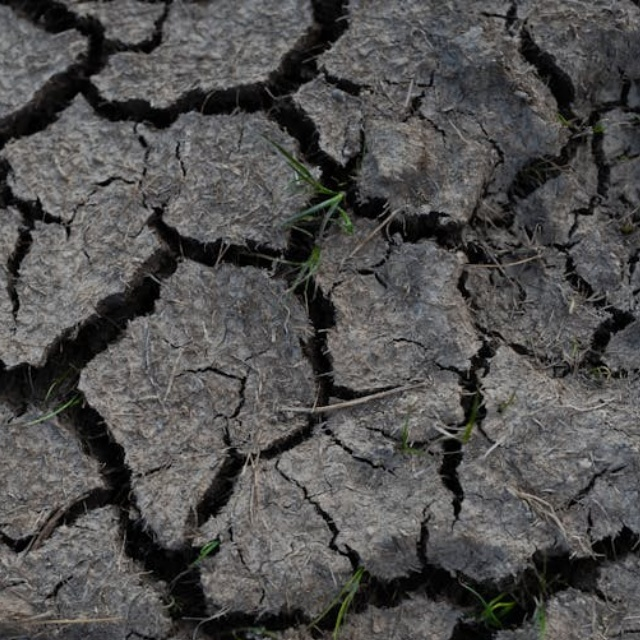深大裂缝: (0, 0, 458, 201), (0, 201, 335, 395), (69, 533, 640, 640)
